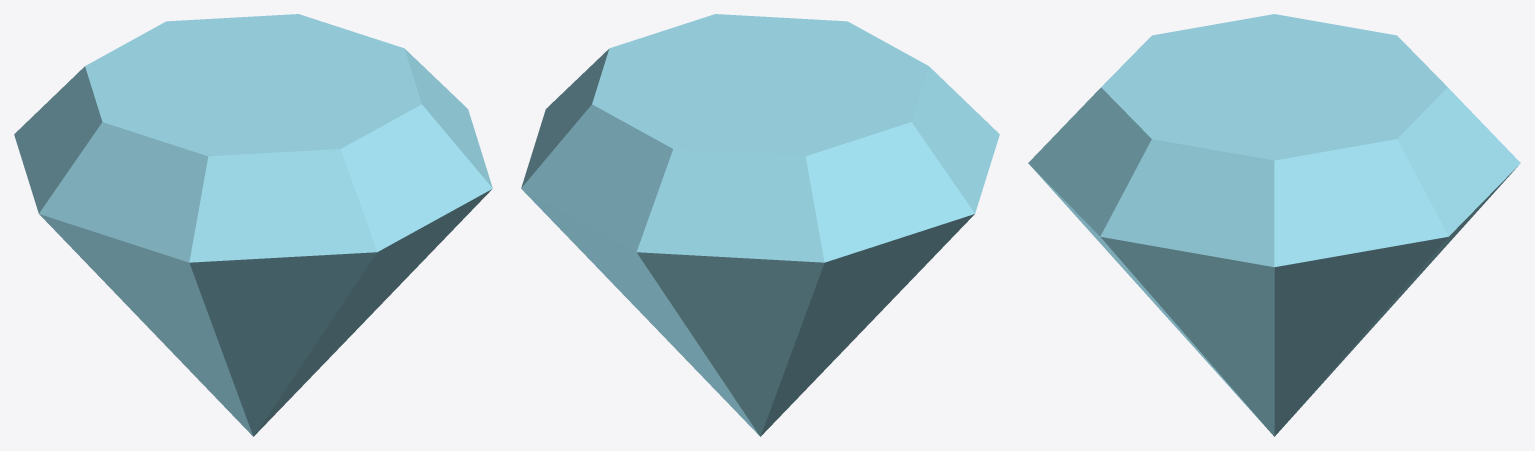
The model's file is Diamond.fbx.
3 renders of one model, left to right at view 1: azimuth 30°, elevation 25°; view 2: azimuth 150°, elevation 25°; view 3: azimuth 270°, elevation 25°, orthographic.
Visible parts, largest first — view 1: Diamond; view 2: Diamond; view 3: Diamond.
Boxes of the visible parts, left/top/right/bottom form: Diamond: left=14, top=14, right=492, bottom=436; Diamond: left=521, top=14, right=999, bottom=436; Diamond: left=1028, top=14, right=1520, bottom=436.
Size of the model in its own units: 12.83 by 10.05 by 12.83.
Materials: 1 (1 with a texture image).
